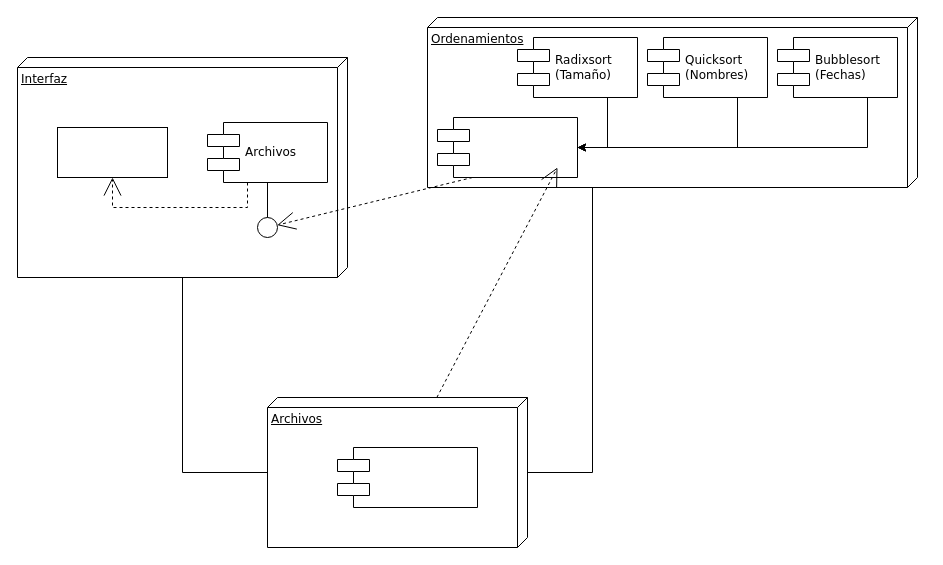
This 943x565 diagram has some shape labels left out. Each missing label, with the centre of its shape:
"Ordenamiento" goes at (x=507, y=147).
"PDF,TXT,DOCX" goes at (x=407, y=477).
"«interface»" goes at (x=112, y=152).
